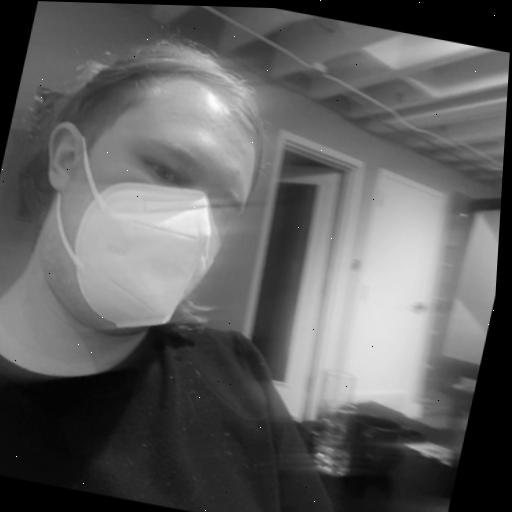mask: (0, 17, 326, 417)
